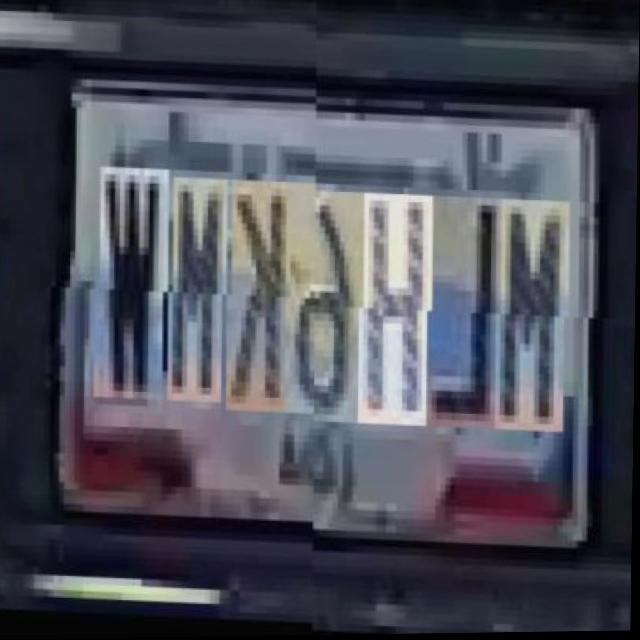6: (284, 195, 362, 429)
h: (357, 197, 429, 431)
k: (225, 192, 288, 426)
l: (426, 199, 498, 433)
m: (495, 201, 567, 435), (166, 190, 224, 416)
w: (93, 180, 166, 414)
